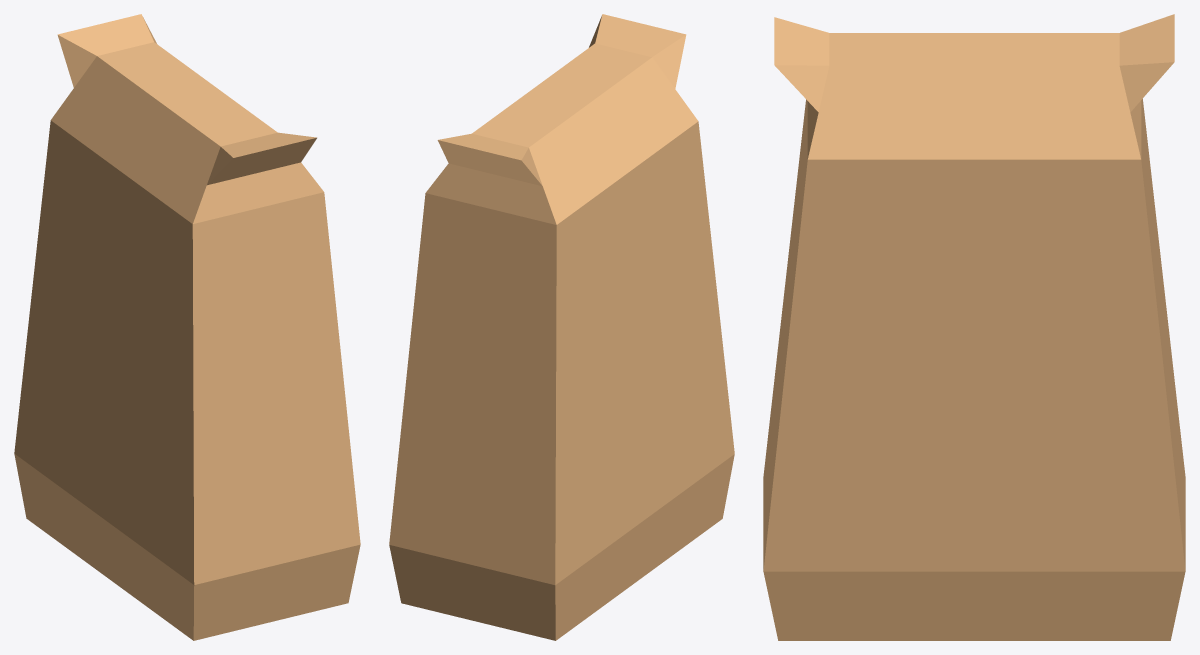
Rendered from bag.dae.
3 renders of one model, left to right at view 1: azimuth 30°, elevation 25°; view 2: azimuth 150°, elevation 25°; view 3: azimuth 270°, elevation 25°, orthographic. The views are drawn at different scales.
Parts seen in each view (by area): view 1: bag; view 2: bag; view 3: bag.
Boxes of the visible parts, x1,y1,x2,y2 form: bag: (14,14,360,640); bag: (389,14,734,640); bag: (763,14,1185,640).
Bounding box in the file's own units: 0.2201 × 0.5998 × 0.4118.
